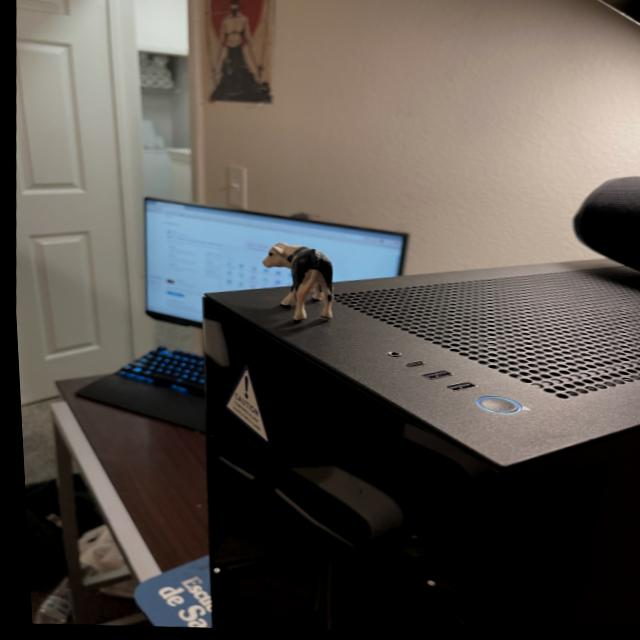cow: (260, 245, 330, 324)
